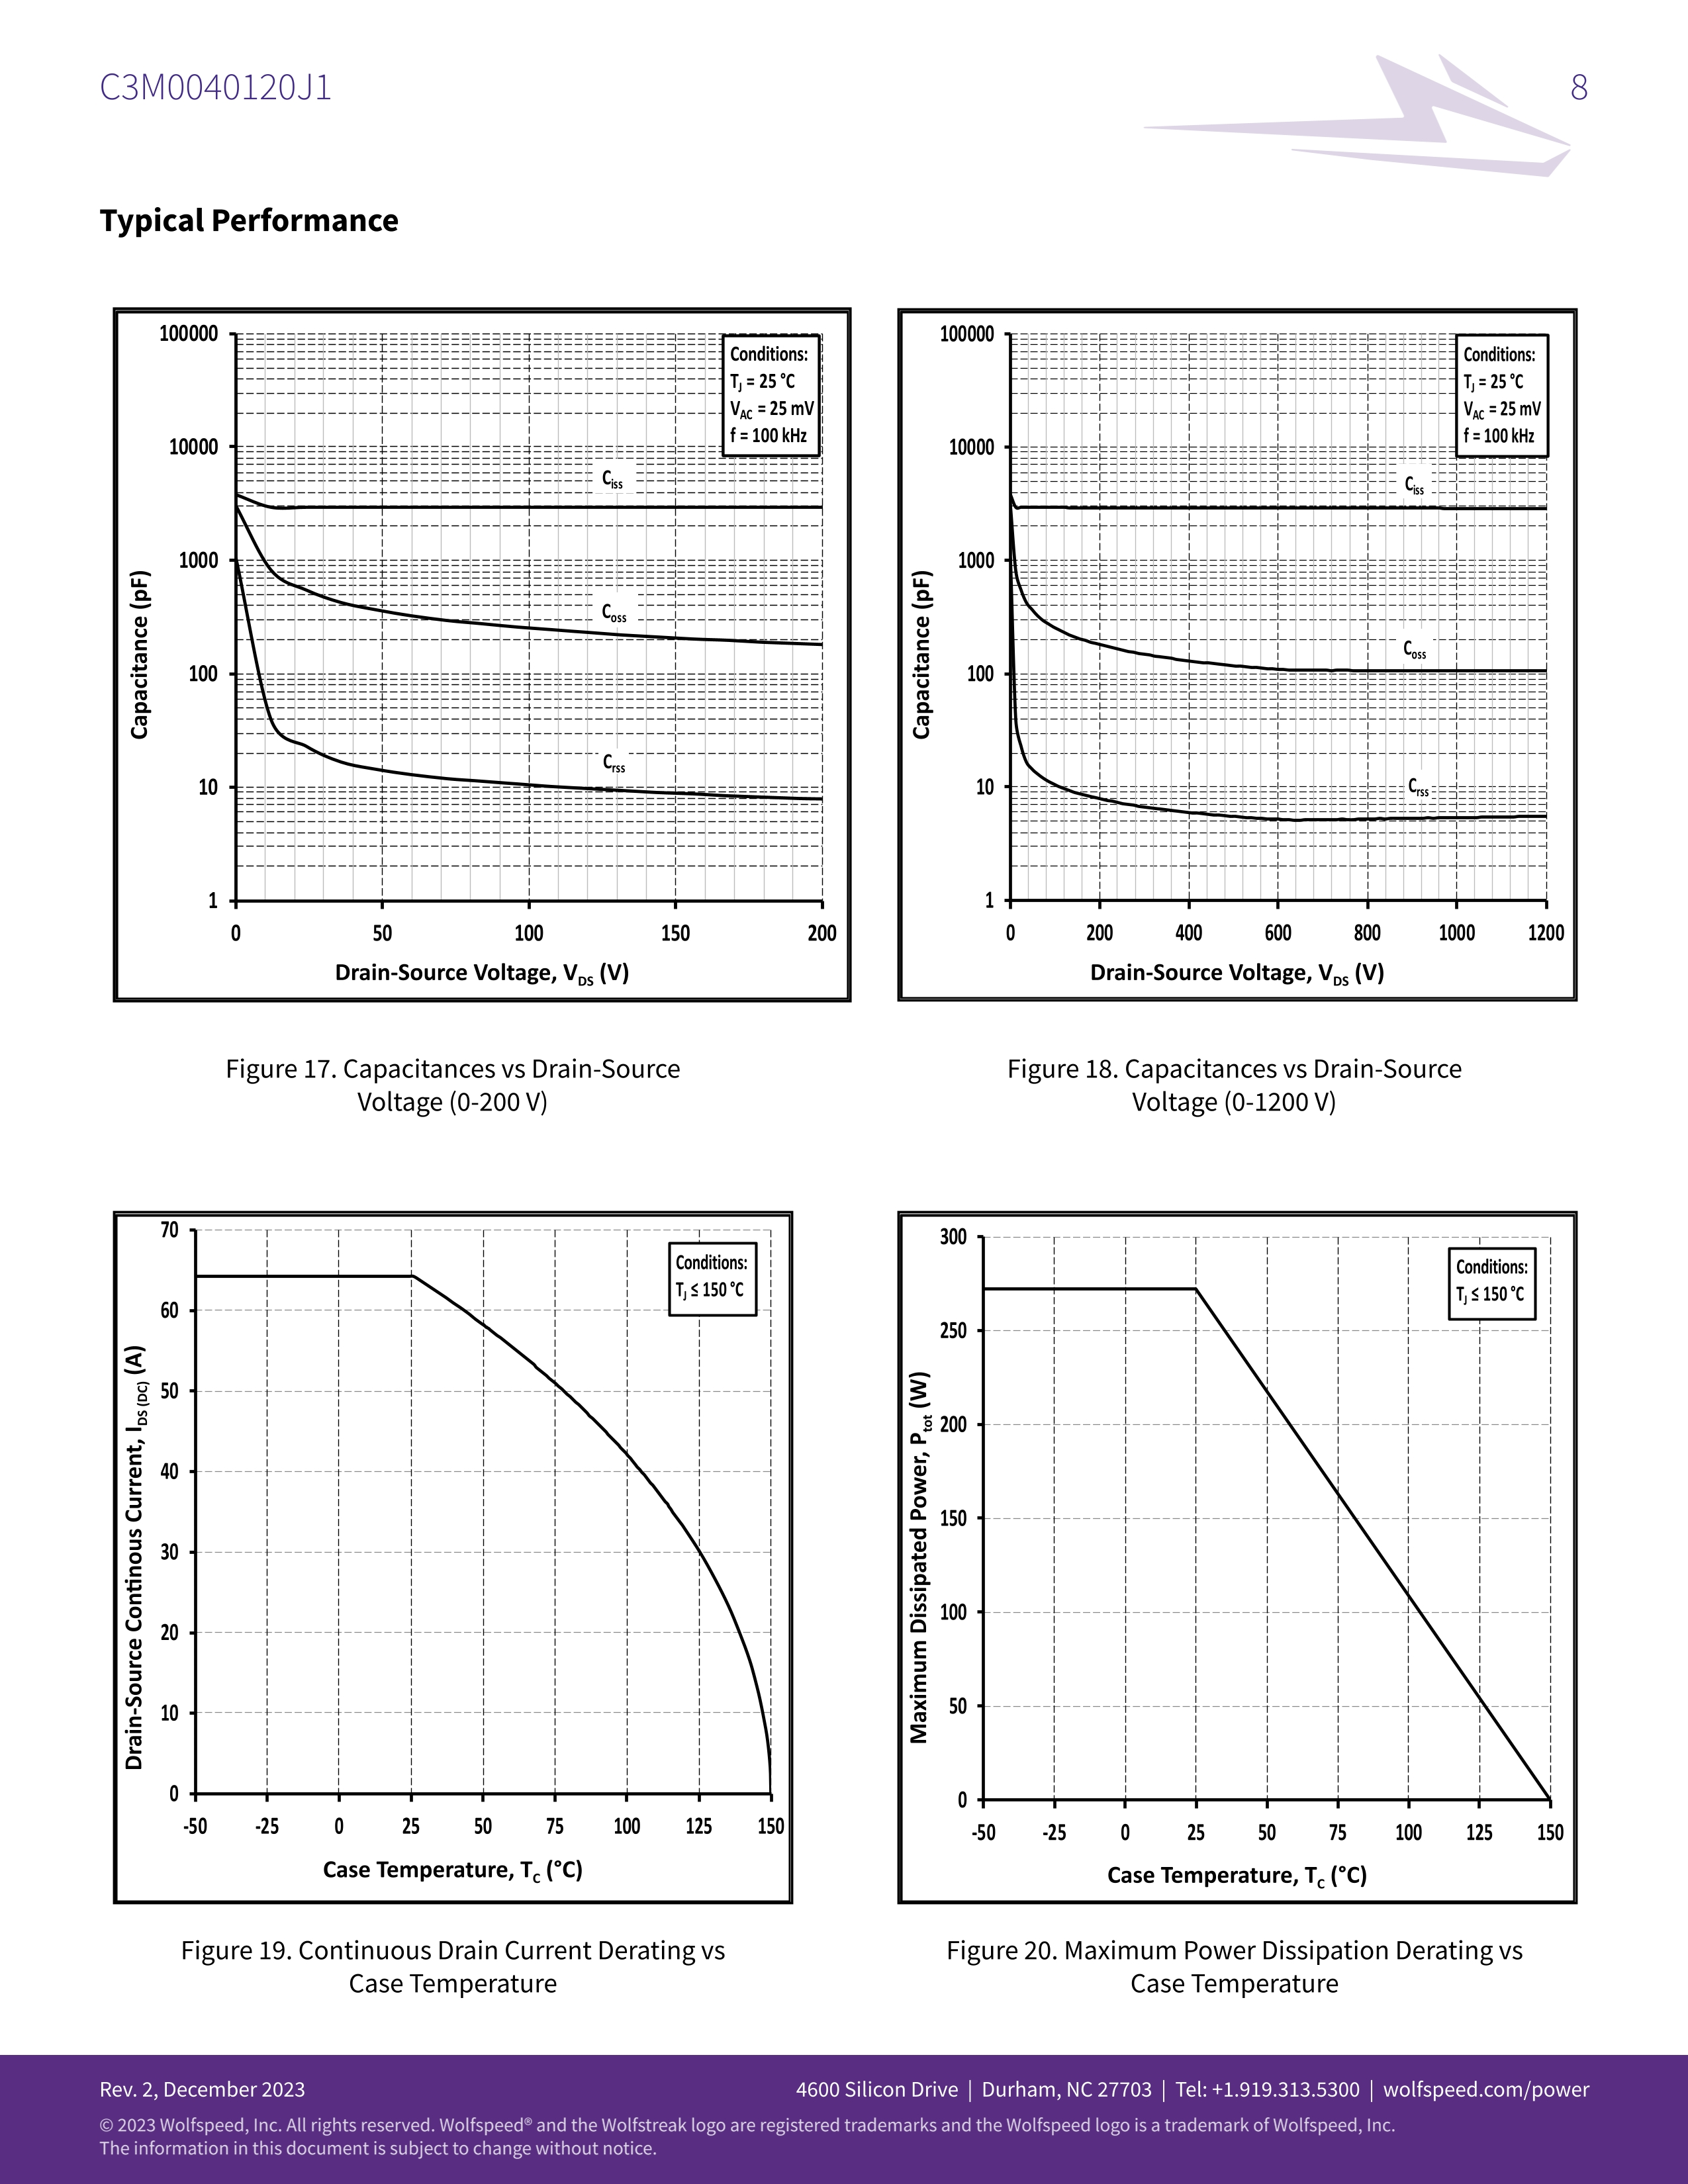diagram: (99, 296, 862, 1161), (89, 1198, 821, 2046), (885, 303, 1608, 1152), (879, 1209, 1619, 2028)
